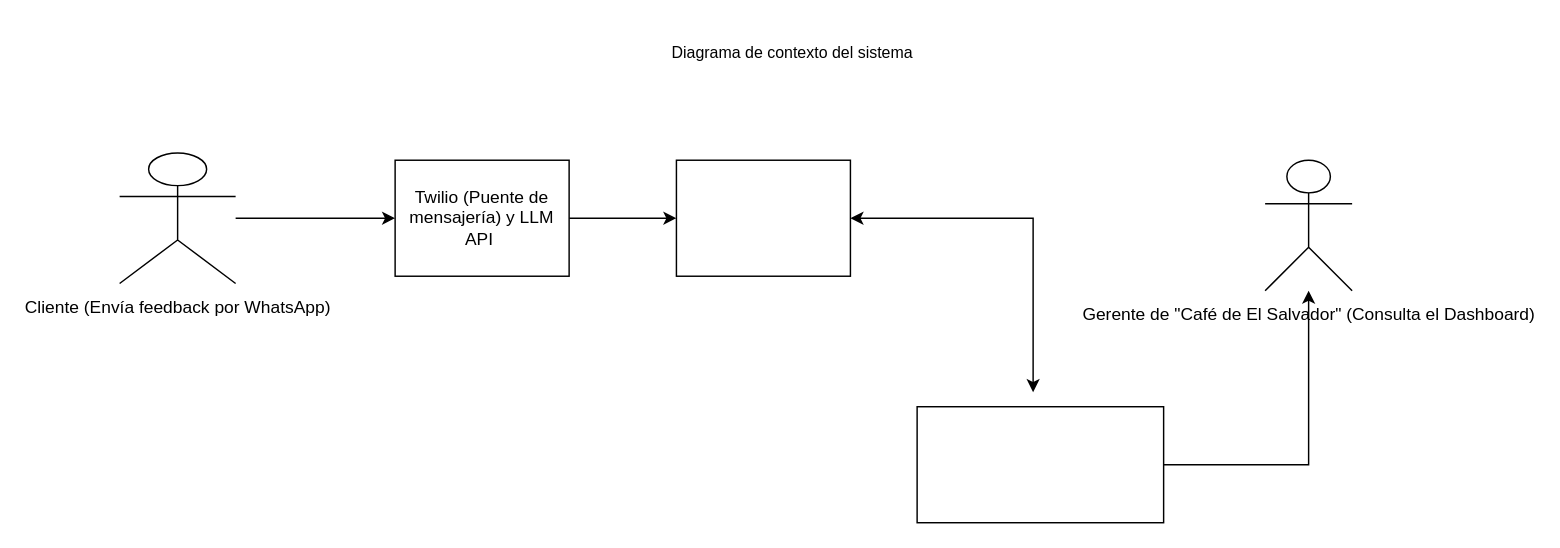
The diagram is 1560 pixels wide and 548 high, and some of its shapes have lost their labels. The shapes that lost their labels are listed below. From the top down, each one's box as (x1, y1, x2, y2) in pixels, then its label:
(675, 159, 850, 276): Modelo IA Local
(916, 405, 1164, 523): Sistema central: Sistema de analisis de sentimiento Nuestra app
